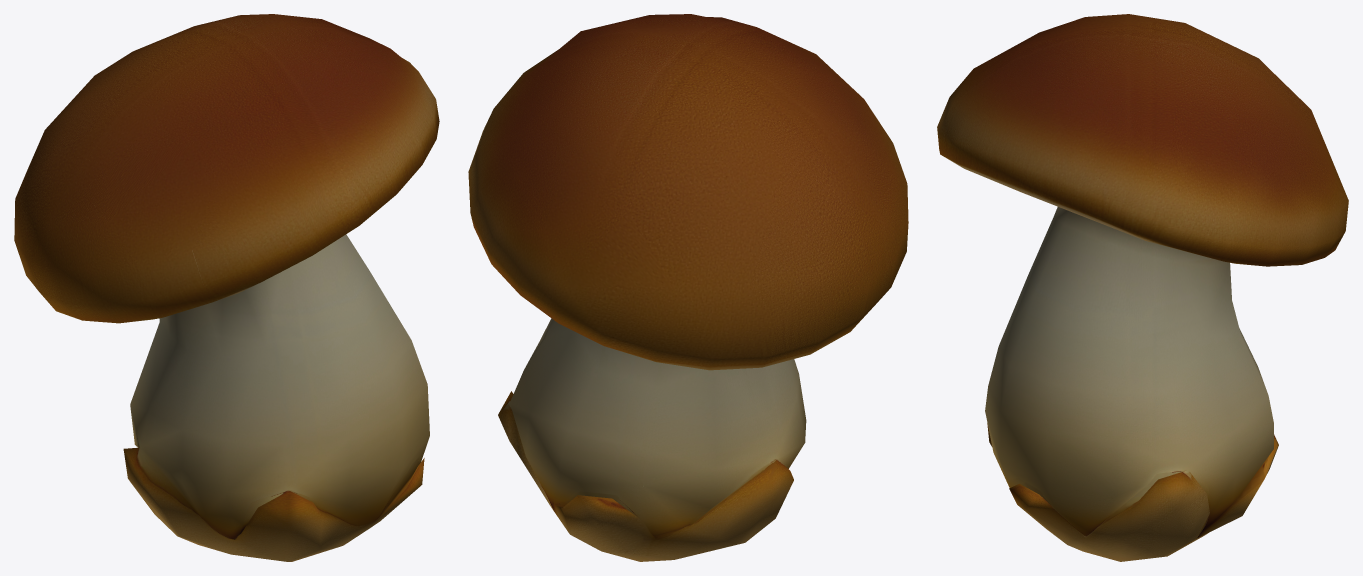
File: mushroom.glb
3 renders of one model, left to right at view 1: azimuth 30°, elevation 25°; view 2: azimuth 150°, elevation 25°; view 3: azimuth 270°, elevation 25°, orthographic. The views are drawn at different scales.
Parts seen in each view (by area): view 1: tripo_node_0455bfe9-6bae-4b5e-9c86-dc2f4bf14e84; view 2: tripo_node_0455bfe9-6bae-4b5e-9c86-dc2f4bf14e84; view 3: tripo_node_0455bfe9-6bae-4b5e-9c86-dc2f4bf14e84.
Part boxes in pixels (<box>): tripo_node_0455bfe9-6bae-4b5e-9c86-dc2f4bf14e84: <box>14,14,439,561</box>; tripo_node_0455bfe9-6bae-4b5e-9c86-dc2f4bf14e84: <box>468,14,908,561</box>; tripo_node_0455bfe9-6bae-4b5e-9c86-dc2f4bf14e84: <box>937,14,1348,561</box>.
Size of the model in its own units: 0.7988 by 0.998 by 0.7715.
Materials: 1 (1 with a texture image).
